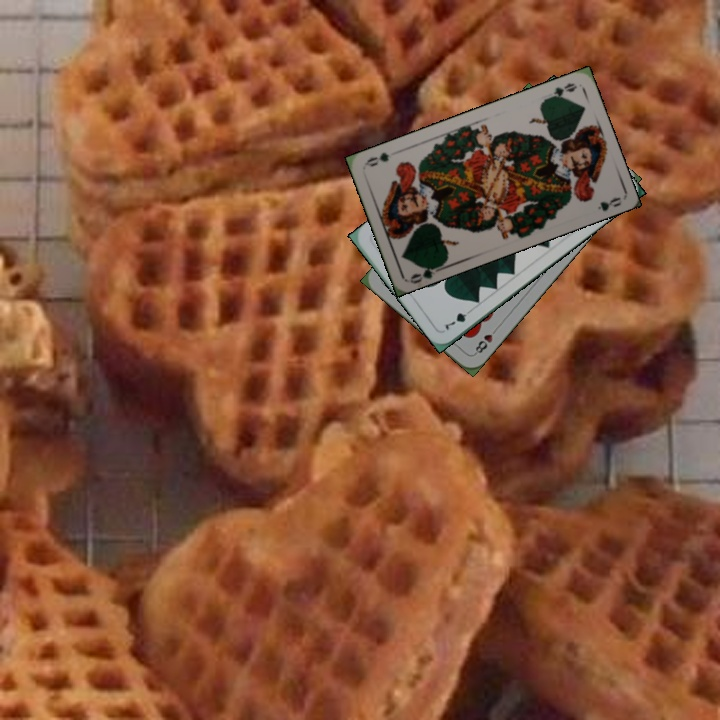G7: (440, 304, 476, 333)
GO: (406, 261, 446, 286), (541, 79, 579, 103)
H8: (470, 323, 500, 357)
